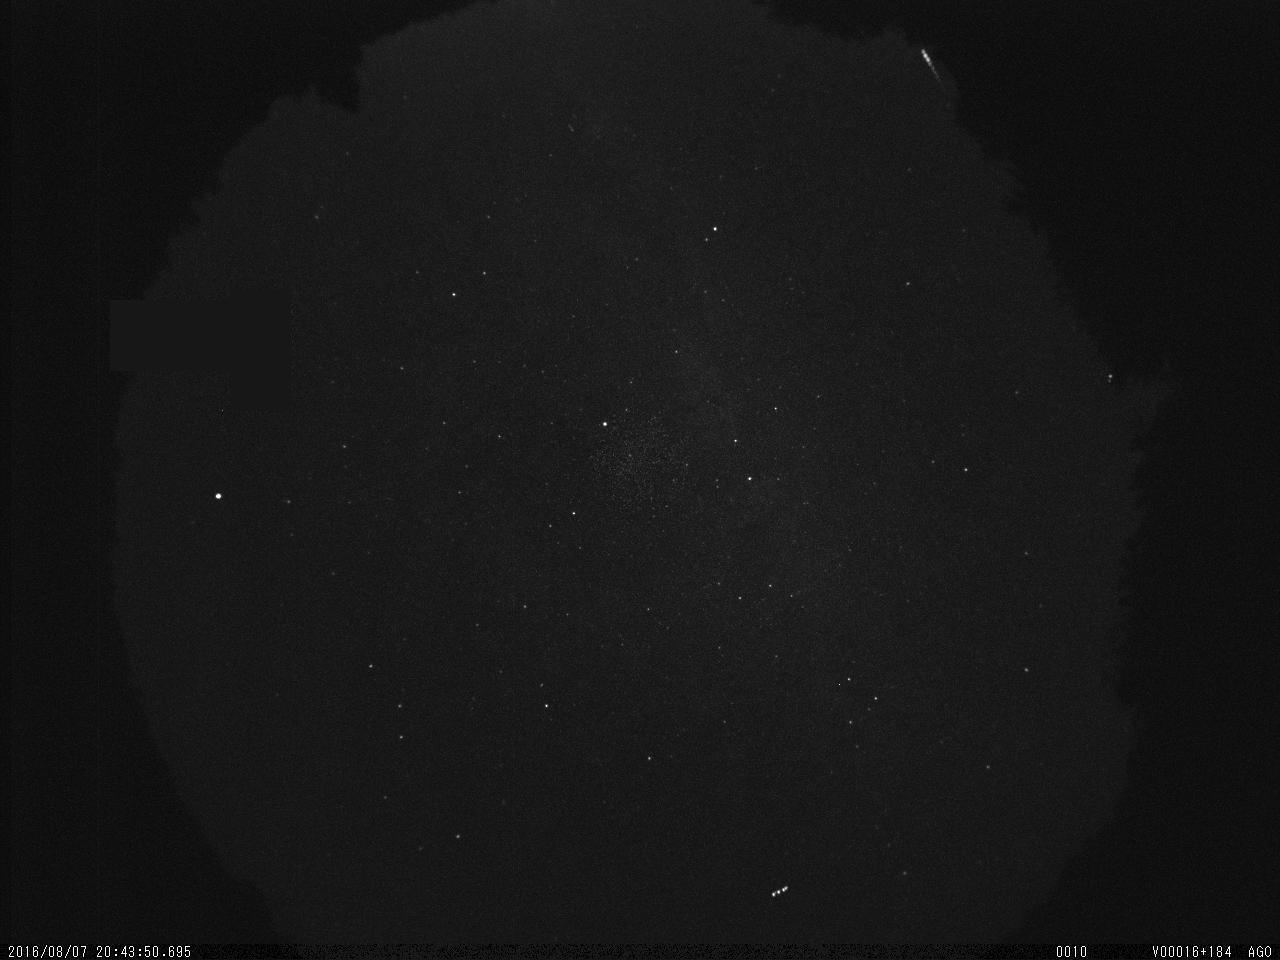meteor: (910, 43, 950, 88)
satelite: (762, 873, 799, 908)
